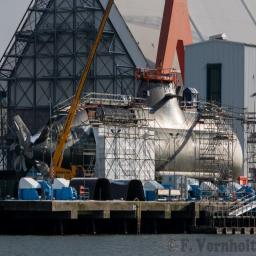submarine: (14, 77, 255, 169)
